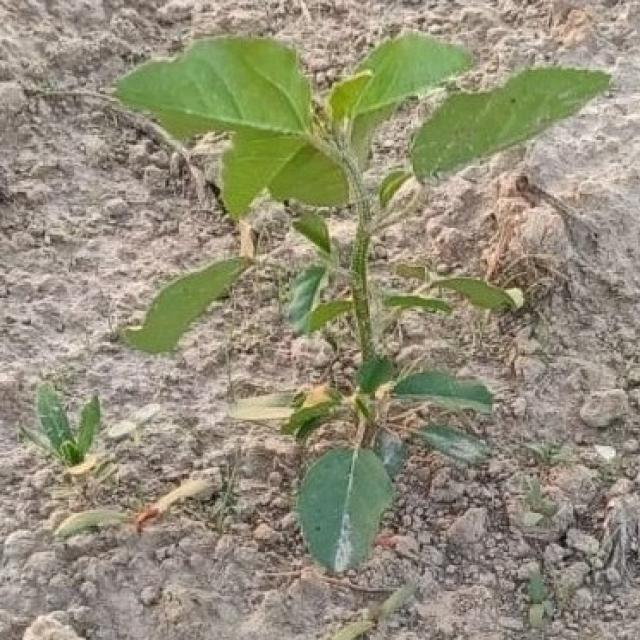weed: (115, 33, 611, 572), (127, 261, 247, 353)
